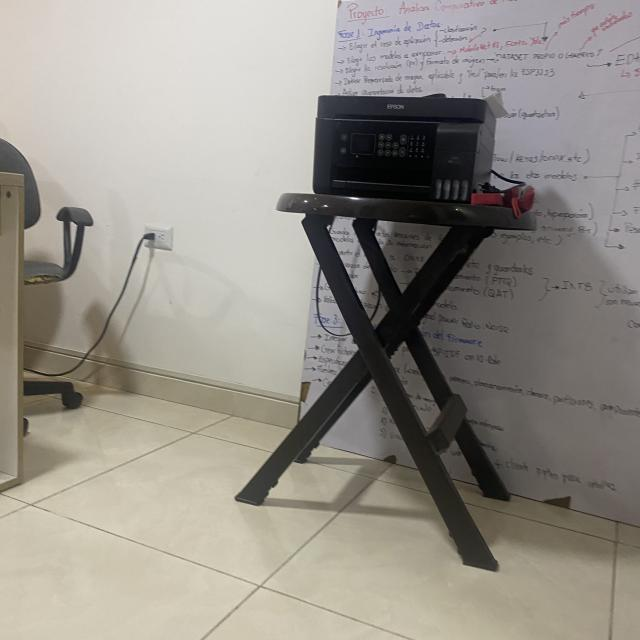obstacle: (235, 89, 540, 576), (0, 129, 92, 482)
